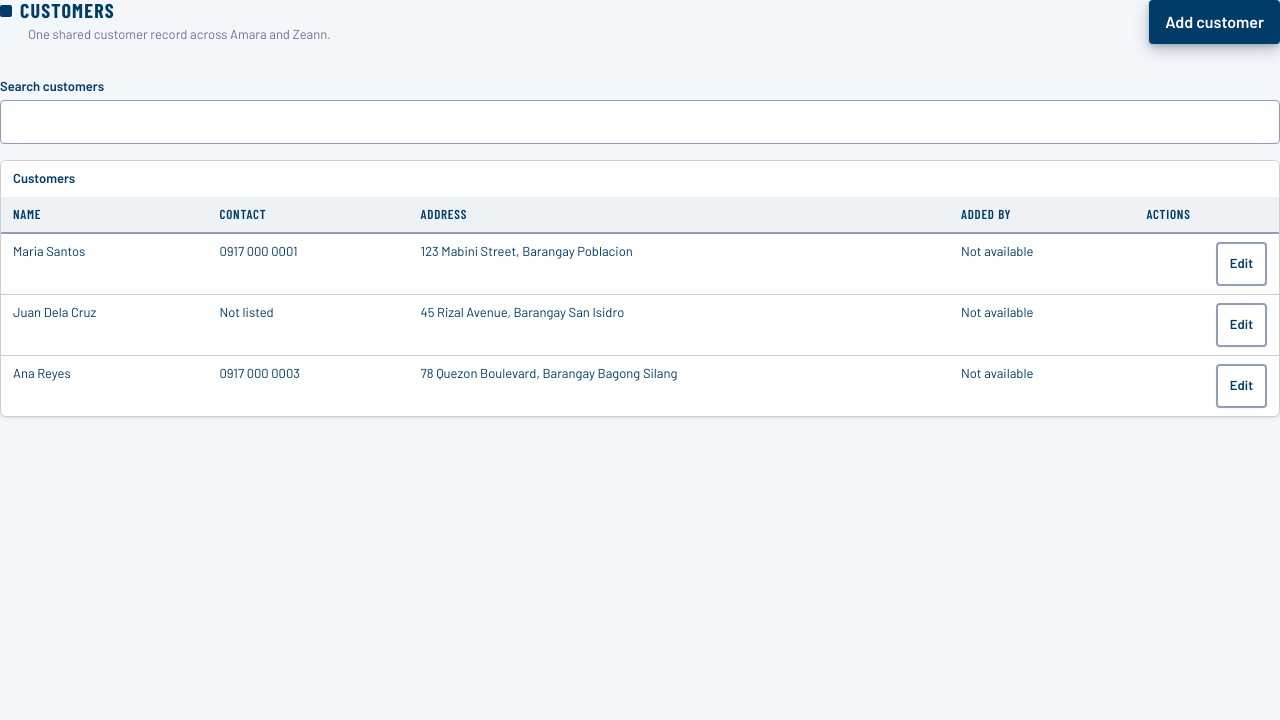
it: CustomerListPage › adds a shared customer
Expected: the text "Maria Santos" is shown, [1, 233, 208, 295]
Click the button "Add customer". click: (1215,22)
box: [1149, 0, 1279, 44]
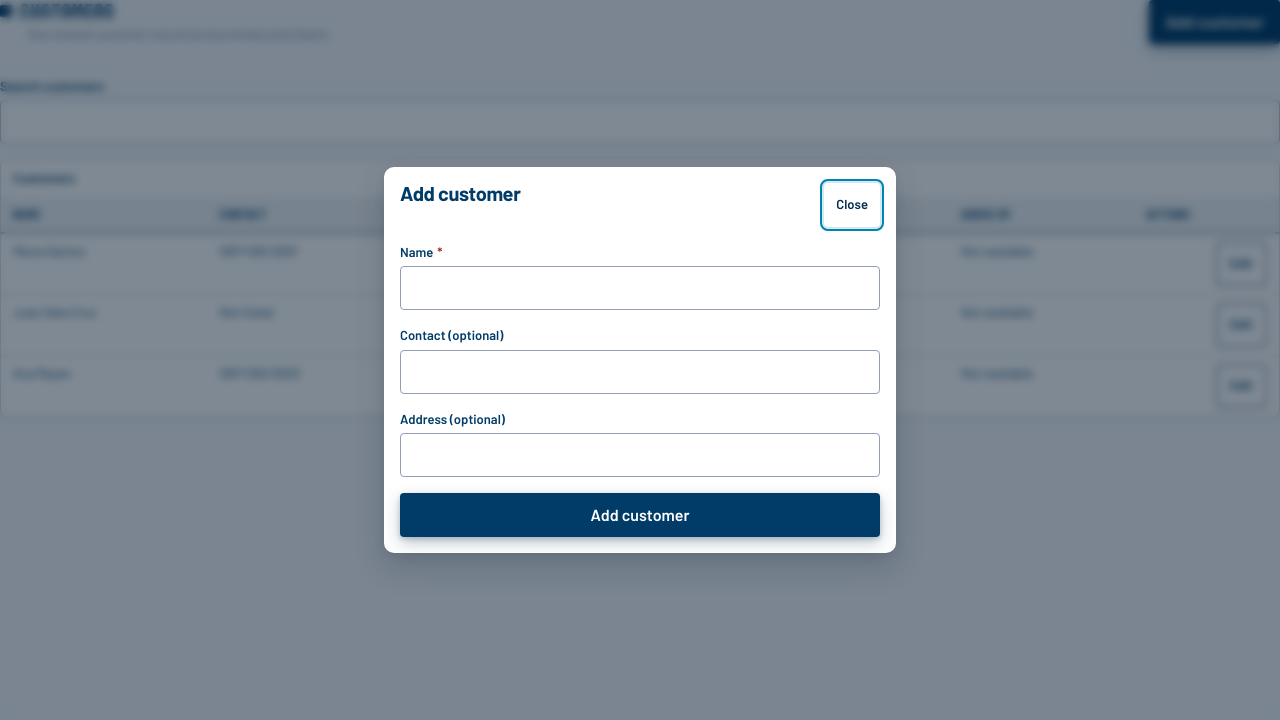
Type "Pedro Penduko" into the field labelled "Name*". click: (640,288)
box: [400, 266, 880, 310]
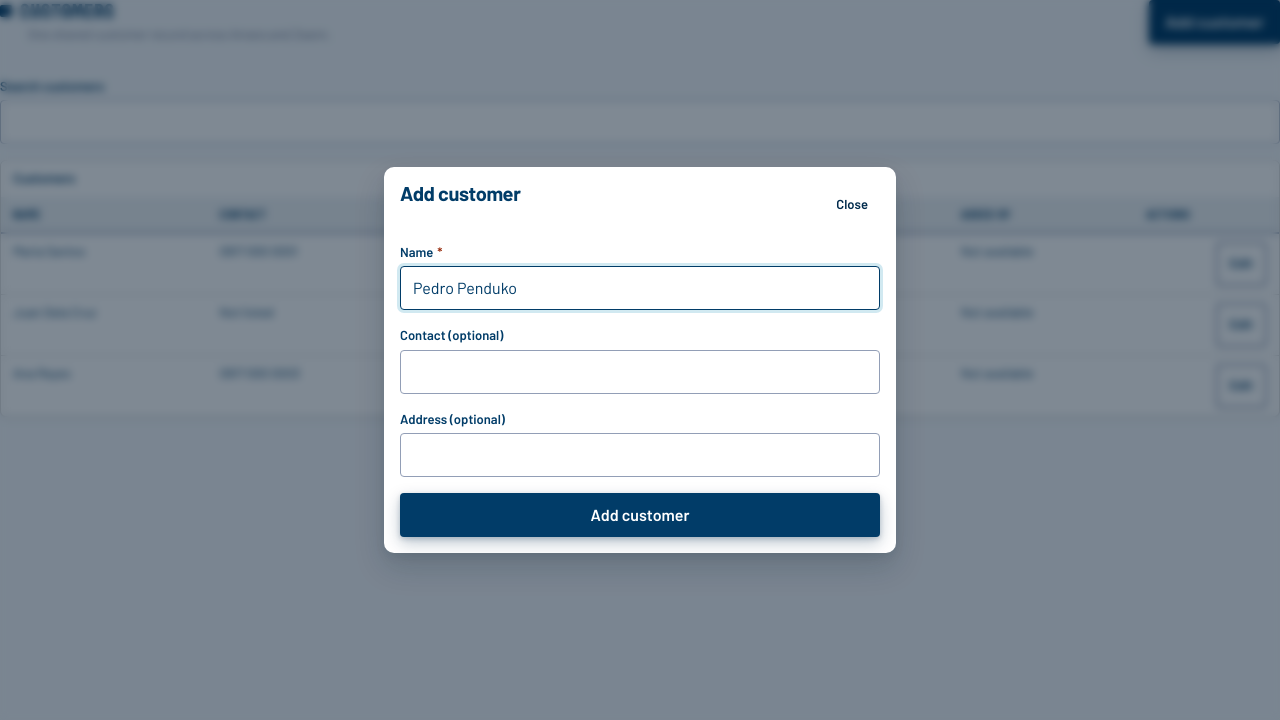
Click the button "Add customer". click: (640,515)
box: [400, 493, 880, 537]
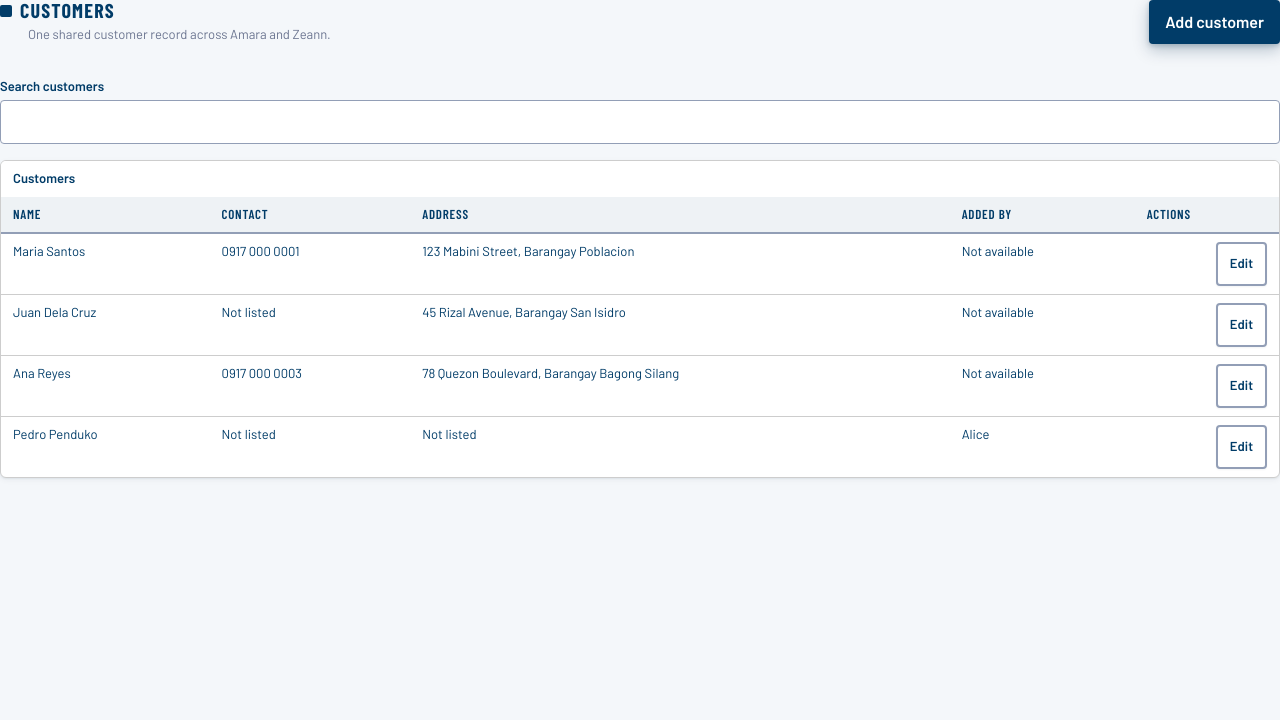
Expected: the text "Pedro Penduko" is shown, [1, 417, 210, 477]
